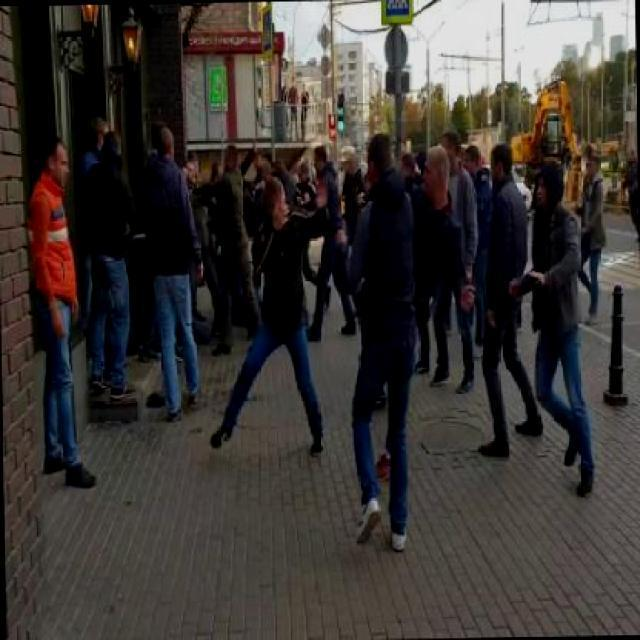non-fight: (23, 136, 100, 490)
